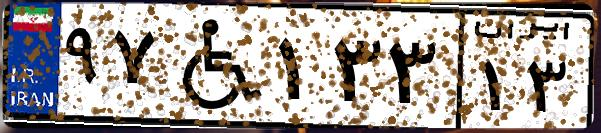1: (270, 28, 330, 110), (475, 38, 525, 113)
3: (385, 28, 445, 110), (330, 28, 385, 110), (525, 38, 570, 115)
7: (110, 28, 158, 98)
9: (57, 26, 110, 100)
ژ (معلولین و جانبازان): (158, 12, 270, 120)
